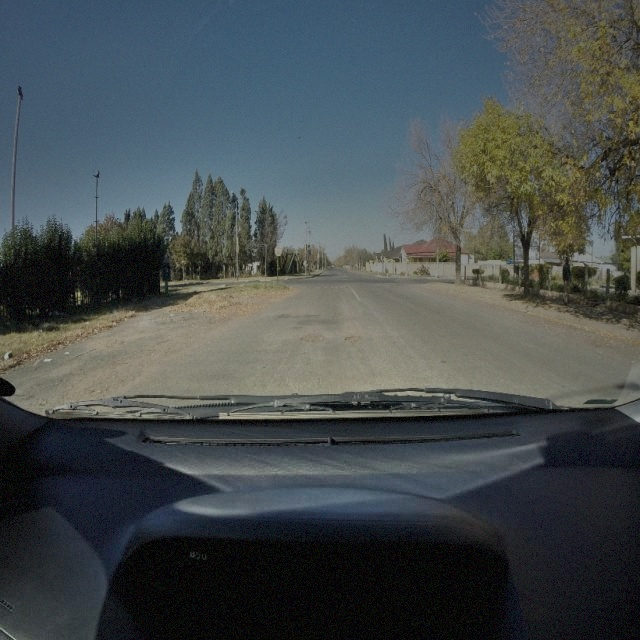pothole: (299, 333, 327, 344), (342, 330, 363, 344)
